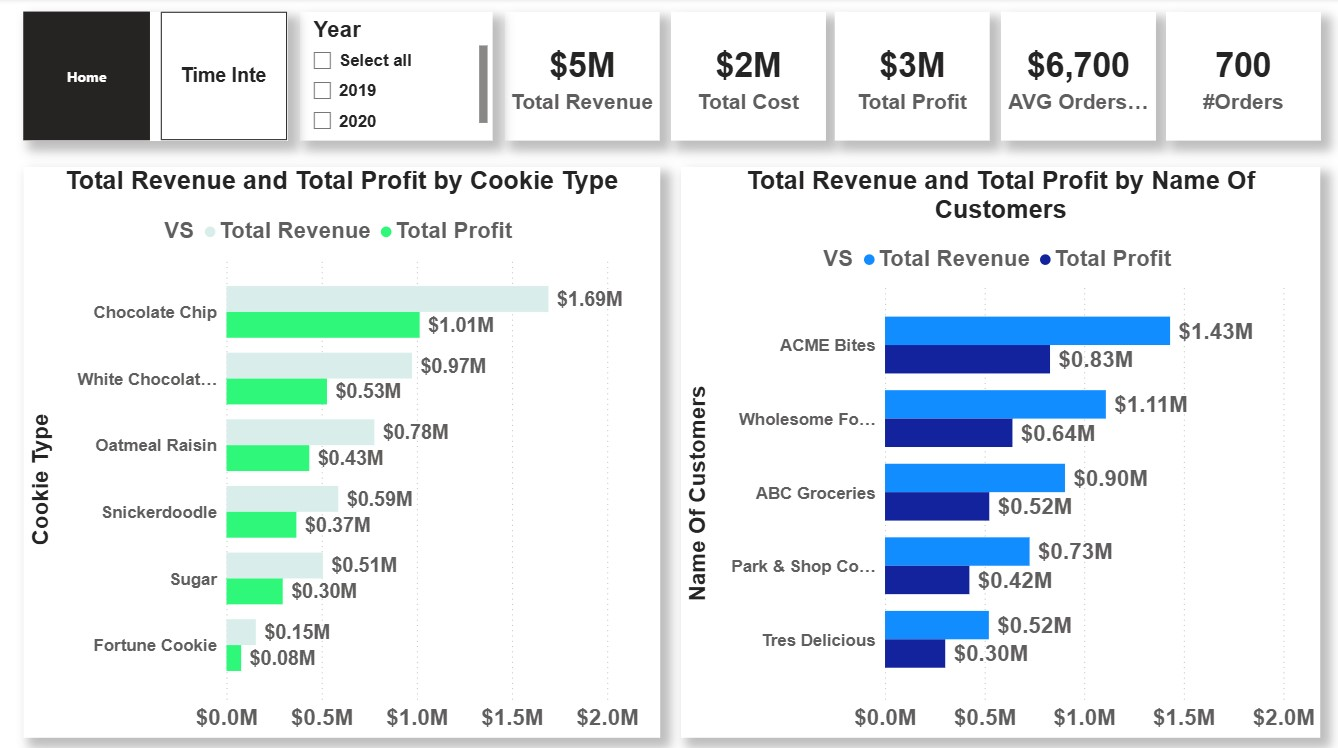

The page's visual inventory and layout, read from the dashboard file:
{"tool":"powerbi","page":{"name":"Home","canvas":[1280,720],"ordinal":0},"visuals":[{"type":"card","fields":{"Values":["Meas.Total Revenue"]},"box":[483.3,13,147.2,122.6],"z":0},{"type":"clusteredBarChart","fields":{"Category":["Cookie Type.Cookie Type"],"Y":["Meas.Total Revenue","Meas.Total Profit"]},"box":[26,160.1,604.5,542.5],"z":1000},{"type":"clusteredBarChart","fields":{"Category":["Customers.Name"],"Y":["Meas.Total Revenue","Meas.Total Profit"]},"box":[650.7,160.1,607.4,542.5],"z":2000},{"type":"card","fields":{"Values":["Meas.Total Cost"]},"box":[640.6,13,147.2,122.6],"z":3000},{"type":"card","fields":{"Values":["Meas.Total Profit"]},"box":[796.4,13,147.2,122.6],"z":4000},{"type":"card","fields":{"Values":["Meas.AVG Orders Value"]},"box":[955.1,13,147.2,122.6],"z":5000},{"type":"card","fields":{"Values":["Meas.#Orders"]},"box":[1110.9,13,147.2,122.6],"z":6000},{"type":"slicer","fields":{"Values":["DimDate.Year"]},"box":[288.6,13,183.2,122.6],"z":7000},{"type":"pageNavigator","box":[26,13,251,122.6],"z":8000}]}

Visuals, with their boxes in screenshot pixels (x1, y1, x2, y2), scaled from the page's 1280x720 canvas onto the 1338x748 screenshot:
card - Meas.Total Revenue: l=505, t=14, r=659, b=141
clusteredBarChart - Cookie Type.Cookie Type x Meas.Total Revenue: l=27, t=166, r=659, b=730
clusteredBarChart - Customers.Name x Meas.Total Revenue: l=680, t=166, r=1315, b=730
card - Meas.Total Cost: l=670, t=14, r=823, b=141
card - Meas.Total Profit: l=832, t=14, r=986, b=141
card - Meas.AVG Orders Value: l=998, t=14, r=1152, b=141
card - Meas.#Orders: l=1161, t=14, r=1315, b=141
slicer - DimDate.Year: l=302, t=14, r=493, b=141
pageNavigator: l=27, t=14, r=290, b=141
